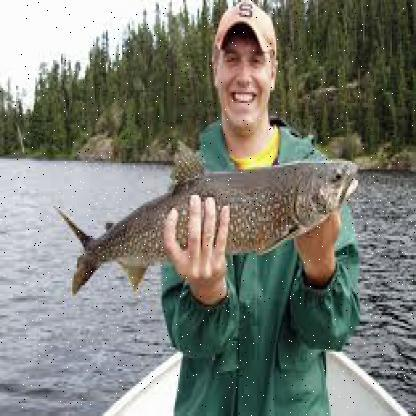fish: (62, 141, 358, 301)
